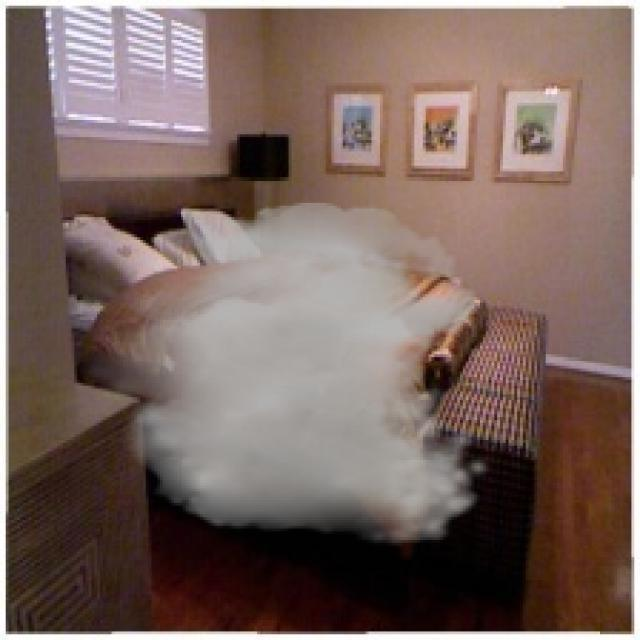Smoke: (71, 203, 492, 546)
